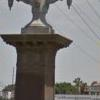Statue: (4, 1, 71, 58)
